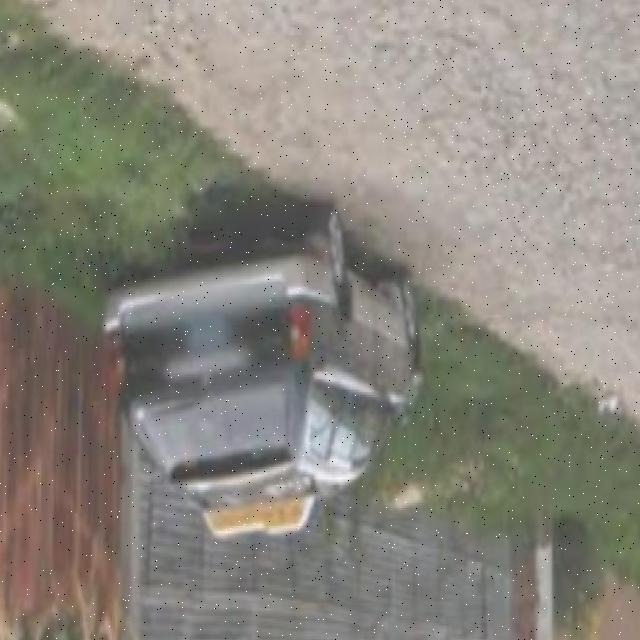car: (104, 213, 426, 518)
